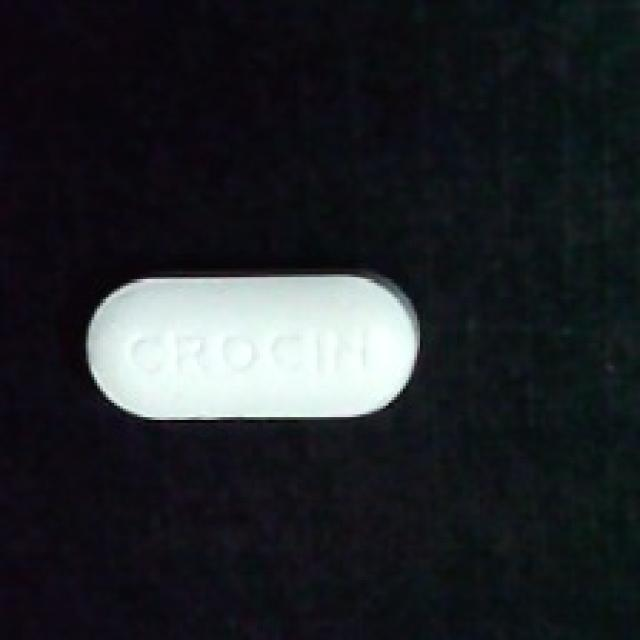no-defect: (80, 260, 423, 420)
